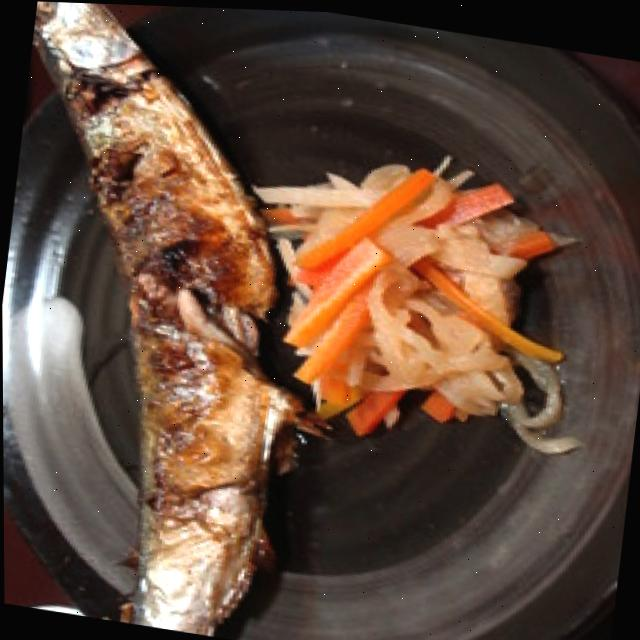熟制海鲜: (0, 0, 354, 640)
